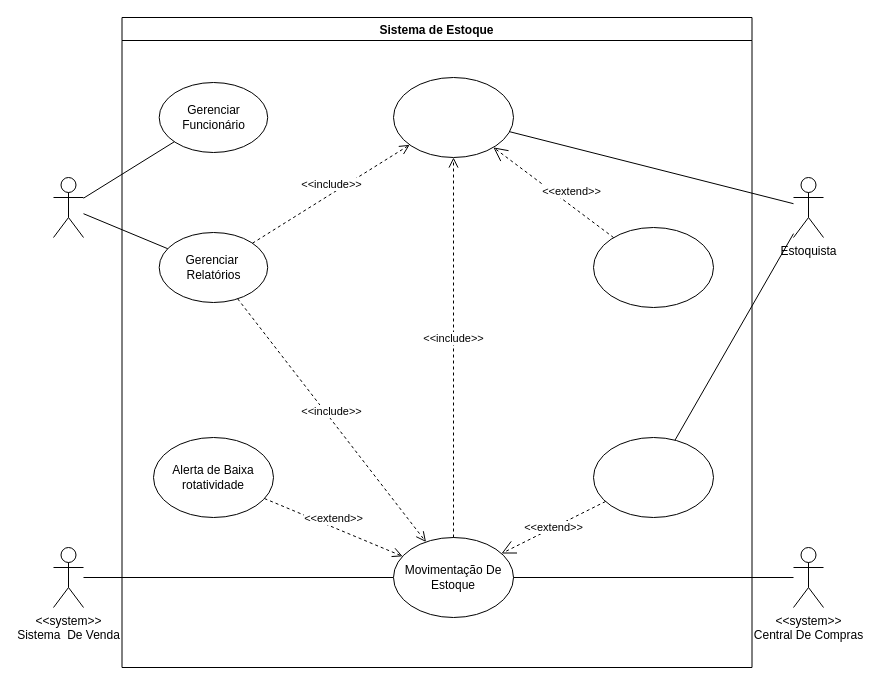
Image size: 880x685. Some labels were removed from this diagram. Here are the shapes that lost their labels. From the top down, the box of each, then its label:
(392, 76, 514, 158): Gerenciar livros
(52, 176, 84, 238): Administrador
(592, 226, 714, 308): Alerta De Estoque Baixo
(592, 436, 714, 518): Processamento De Pedidos
